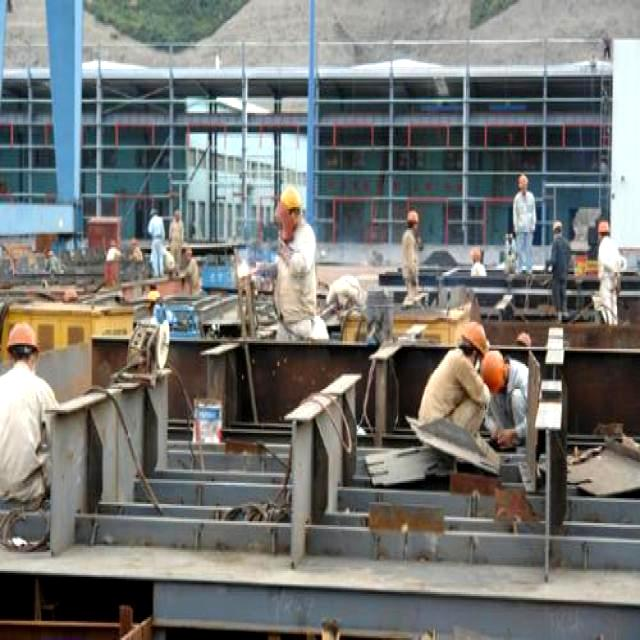hard_hat: (478, 349, 504, 397), (6, 322, 38, 356), (460, 320, 487, 355), (280, 188, 302, 207), (408, 207, 419, 222), (471, 247, 481, 261), (598, 218, 608, 232), (518, 174, 526, 190), (553, 220, 562, 230), (183, 247, 193, 255), (132, 238, 138, 247), (109, 240, 116, 245)
no_hard_hat: (150, 207, 159, 217)
no_head_wear: (173, 207, 180, 217)
person: (0, 322, 56, 550), (414, 315, 491, 469), (274, 186, 326, 337), (478, 346, 530, 453), (594, 222, 623, 324), (548, 222, 572, 318), (512, 174, 535, 272), (402, 211, 420, 303), (178, 247, 200, 293), (150, 209, 163, 276), (169, 209, 183, 263), (127, 238, 145, 276), (104, 240, 120, 282), (470, 249, 484, 276)
